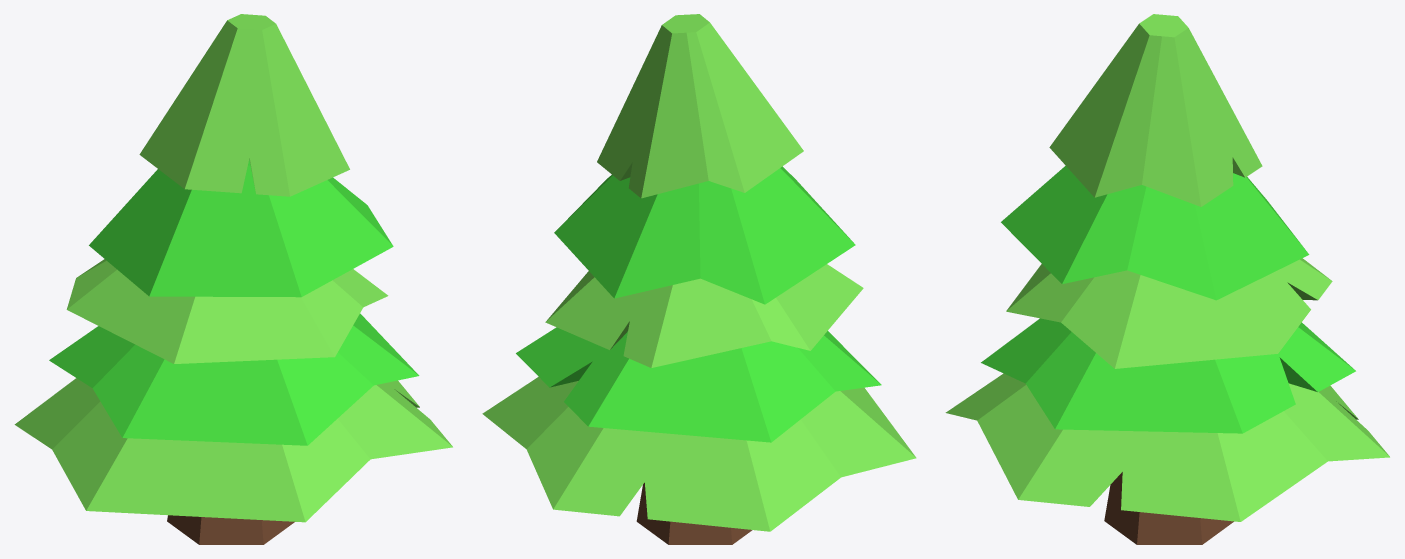
The model's file is pineTree2.fbx.
The picture shows the model from 3 angles, left to right: view 1: azimuth 30°, elevation 25°; view 2: azimuth 150°, elevation 25°; view 3: azimuth 270°, elevation 25°; orthographic projection. The views are drawn at different scales.
Visible parts, largest first — view 1: Arvore2; view 2: Arvore2; view 3: Arvore2.
Part boxes in pixels (x1,y1,x2,y2): Arvore2: [14, 14, 452, 544]; Arvore2: [482, 14, 916, 544]; Arvore2: [945, 14, 1389, 544].
Size of the model in its own units: 658 by 854 by 681.
